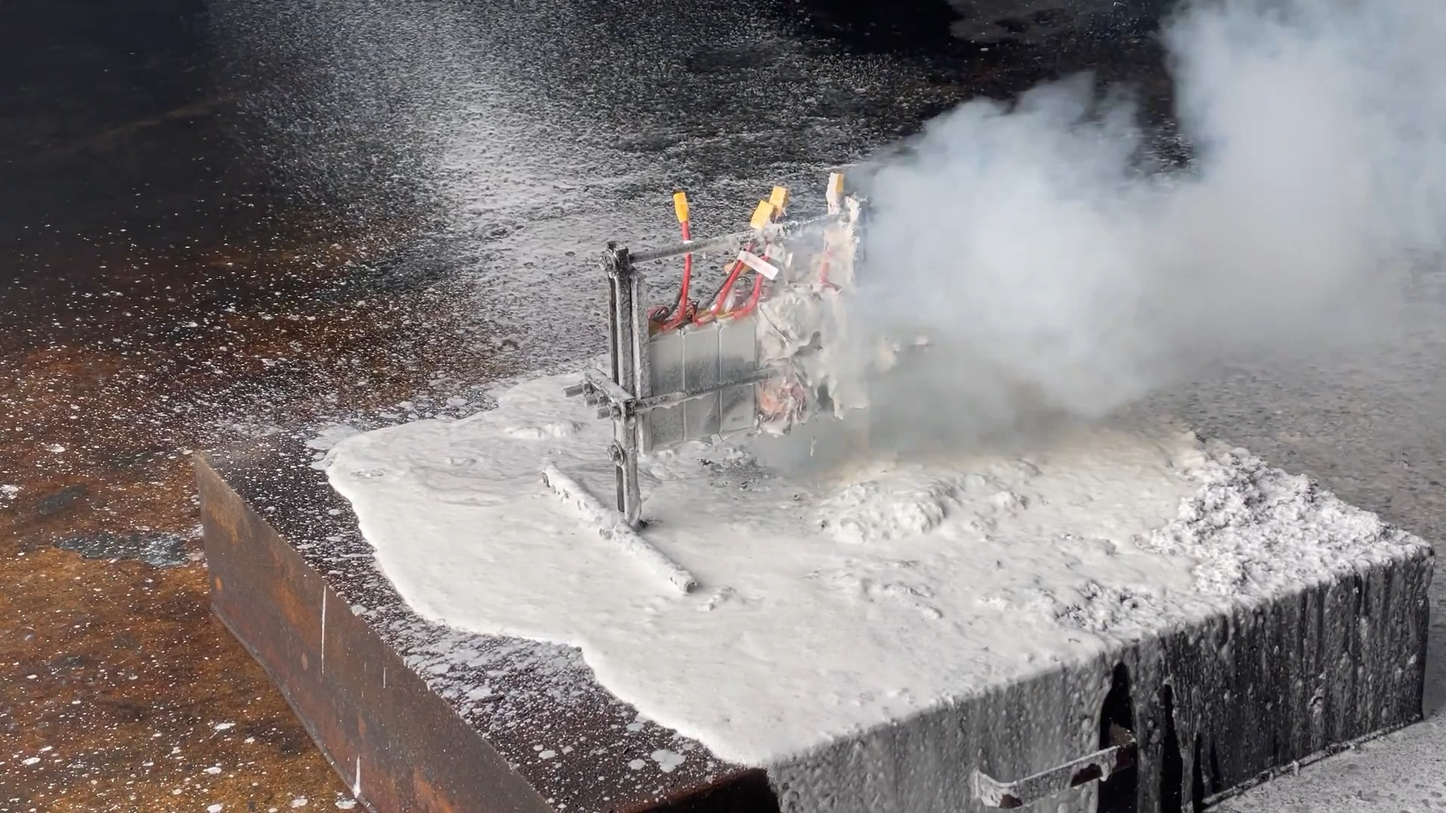smoke: (812, 1, 1445, 454)
